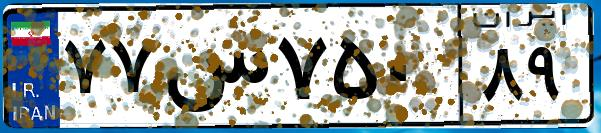0: (385, 28, 445, 110)
5: (330, 28, 385, 110)
7: (270, 28, 330, 110), (57, 26, 110, 100), (110, 28, 158, 98)
8: (475, 38, 525, 113)
9: (525, 38, 570, 115)
س: (158, 20, 270, 120)
